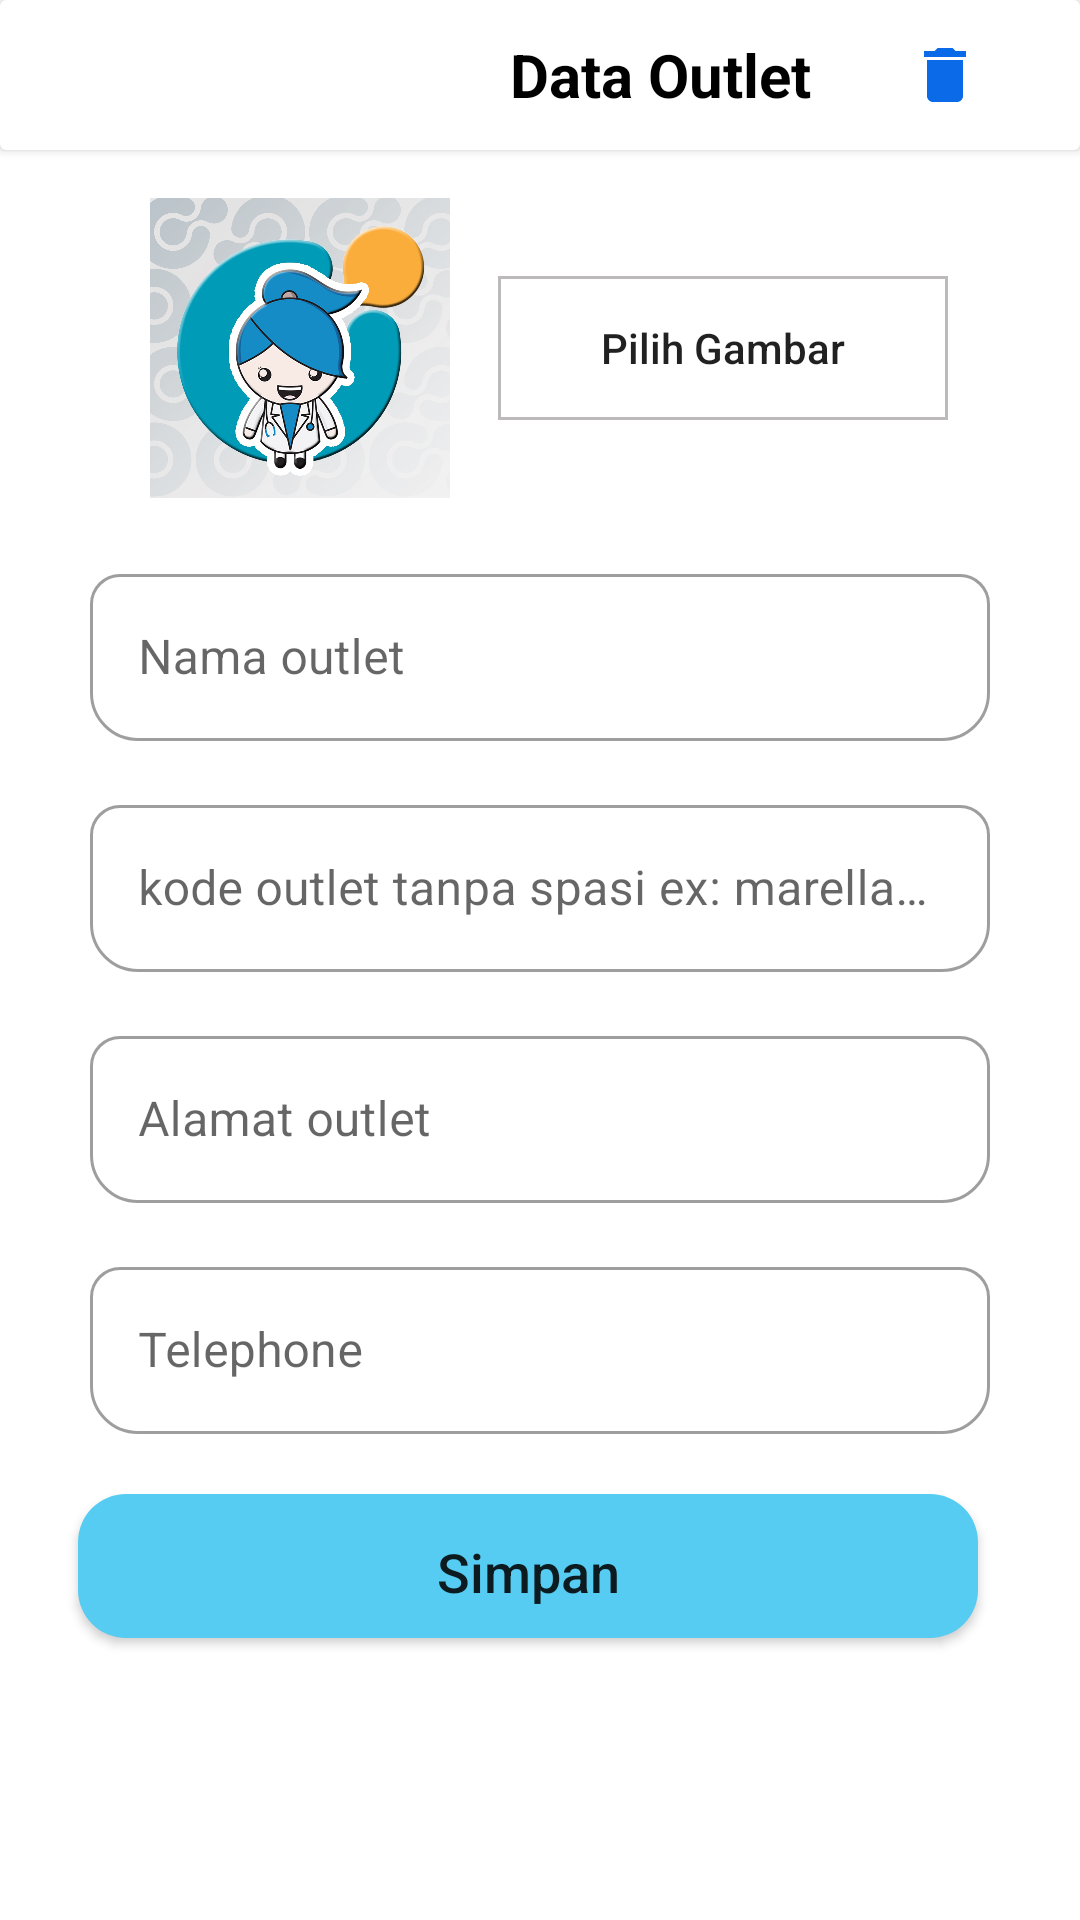

Named icons in this screenshot (1080px×1920px) and their bounding boxes, (x1, y1, x2, y2):
Hapus Outlet: (924, 48, 966, 102)
